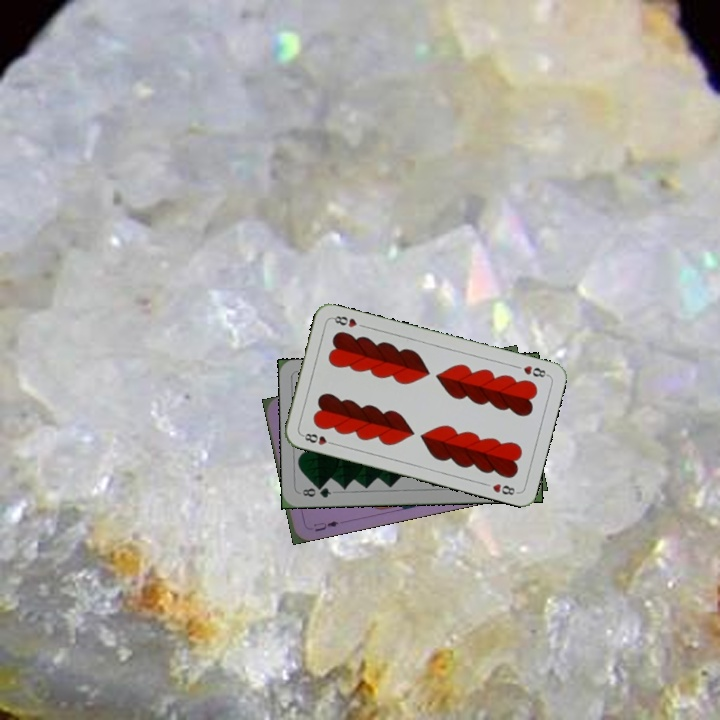EU: (309, 517, 341, 534)
G8: (298, 483, 334, 500)
H8: (298, 429, 338, 448), (519, 361, 551, 380)
